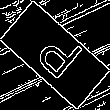P_SW: (26, 24, 84, 86)
